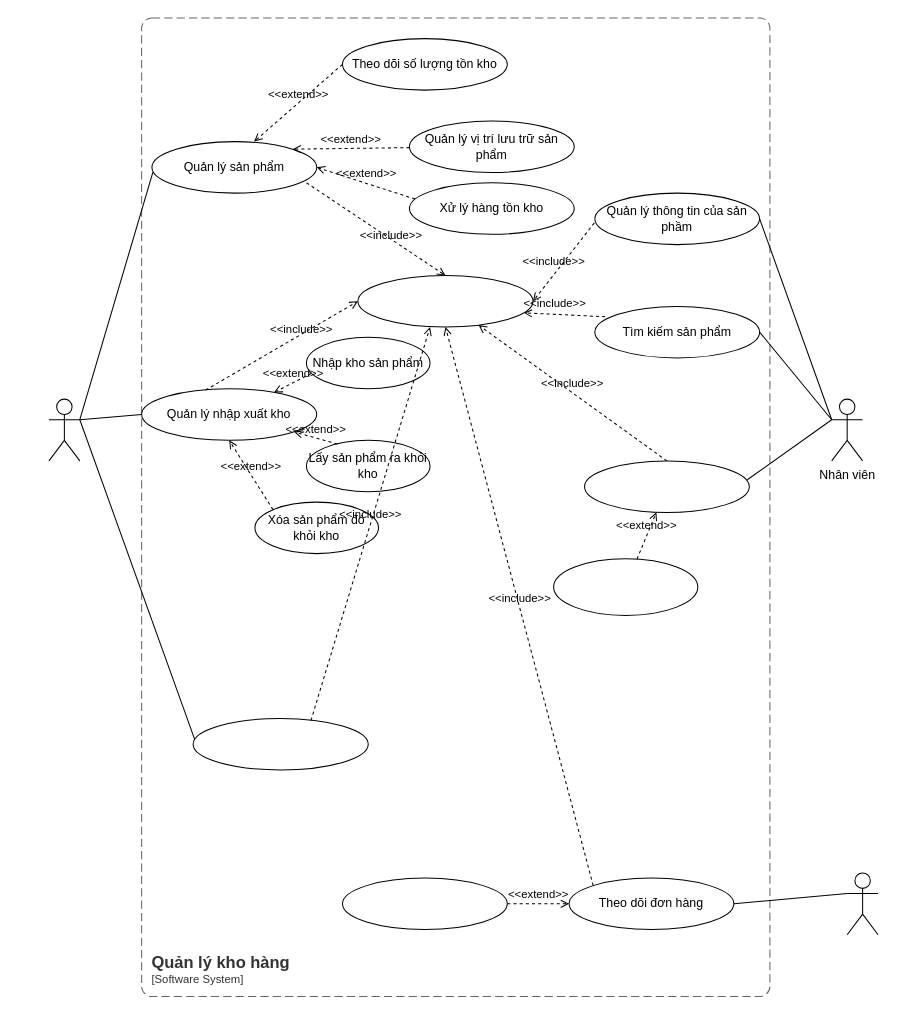
The diagram is 920 pixels wide and 1015 high, and some of its shapes have lost their labels. The centre of each missing label's shape, as x and y in pixels:
Báo cáo thống kê: (280,743)
Chủ tiệm tạp hóa: (64,429)
Cập nhập tình trạng của sản phẩm trong kho: (625,586)
Nhà cung ứng: (862,903)
Nhận thông báo: (424,903)
Xử lý đơn hàng: (666,486)
Đăng nhập: (445,300)
